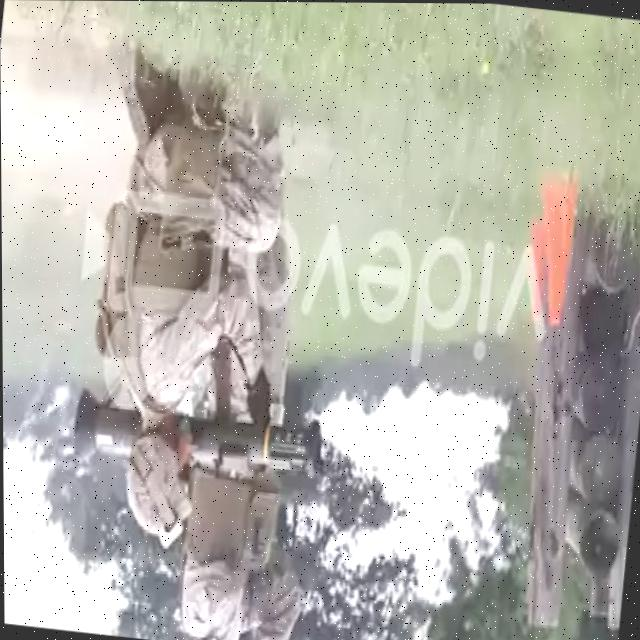rocket: (69, 397, 327, 489)
